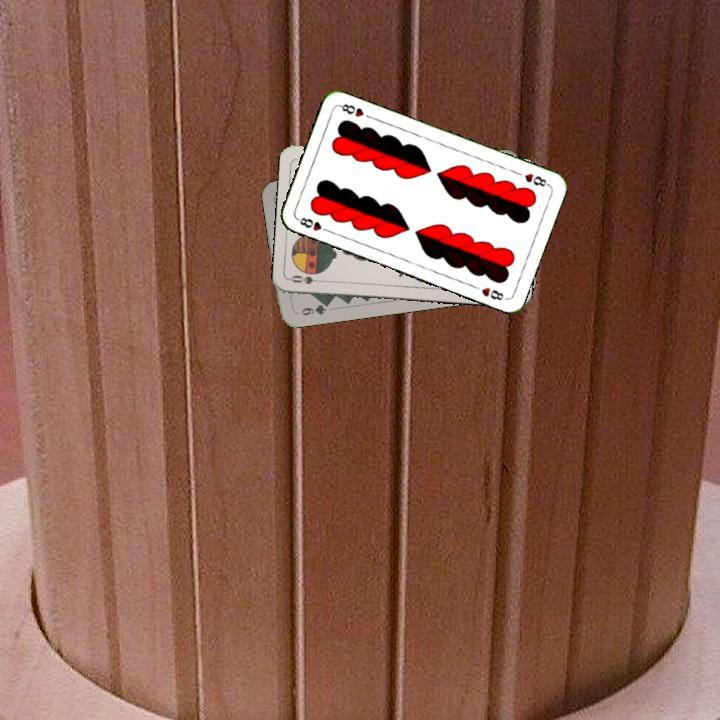G9: (293, 299, 332, 318)
H8: (293, 213, 332, 235), (520, 169, 552, 189)
SO: (287, 271, 327, 287)
